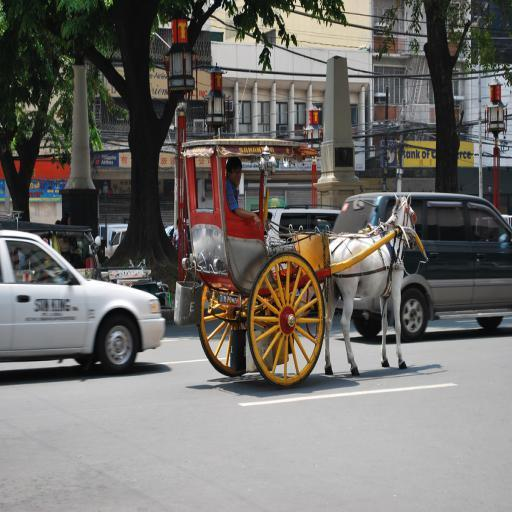horse: (320, 194, 416, 378)
